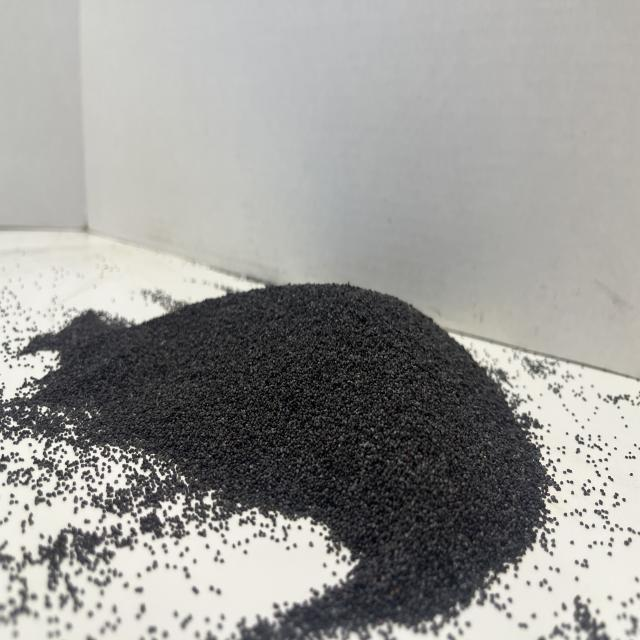Poppy Seeds: (31, 222, 595, 620)
